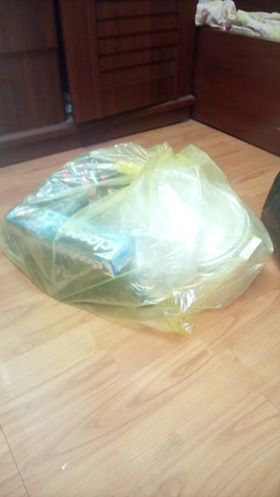plastic bag: (1, 139, 273, 337)
